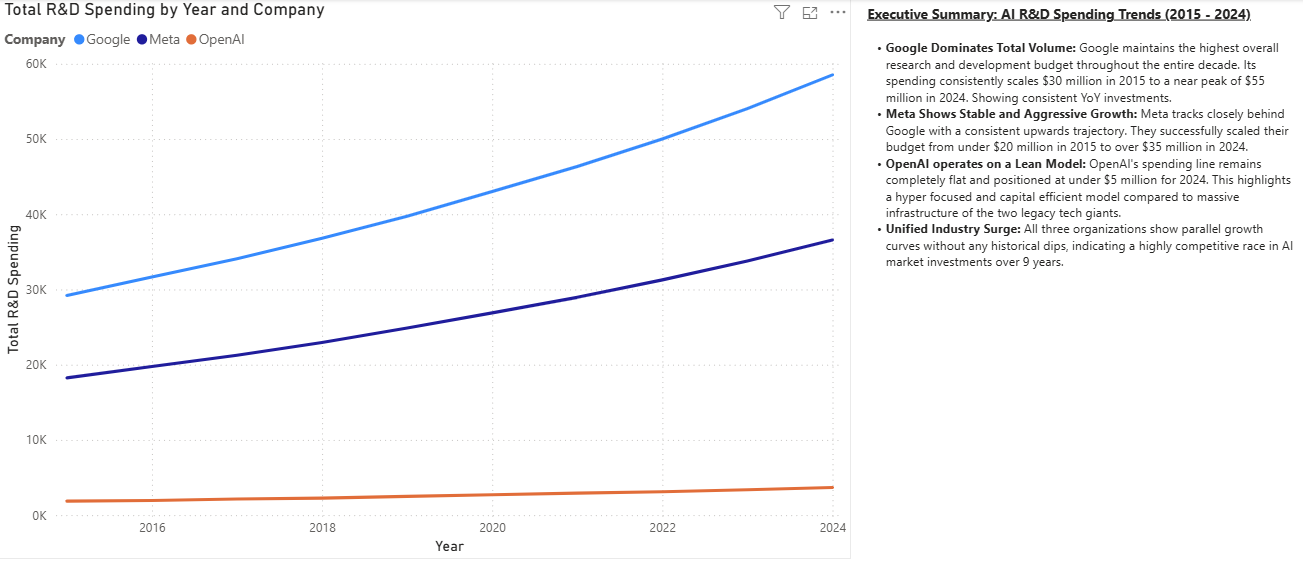

This screenshot's page, from the dashboard's own definition file:
{"tool":"powerbi","page":{"name":"R&D spend per company","canvas":[1280,720],"ordinal":1},"visuals":[{"type":"lineChart","fields":{"Category":["Calendar.Year"],"Y":["Calendar.Total R&D Spending"],"Series":["ai_financial_market_data.Company"]},"box":[9.7,0,828.7,544.7],"z":0},{"type":"textbox","box":[10,555,829,165],"z":1},{"type":"textbox","box":[849,0,431,545],"z":2}]}

Visuals, with their boxes on the page's 1280x720 design canvas (x1, y1, x2, y2). These are canvas units, not pixel positions in the 1303x577 screenshot, which may show the page scaled, cropped or inside an application window:
lineChart - Calendar.Year x Calendar.Total R&D Spending: select_region(10, 0, 838, 545)
textbox: select_region(10, 555, 839, 720)
textbox: select_region(849, 0, 1280, 545)
